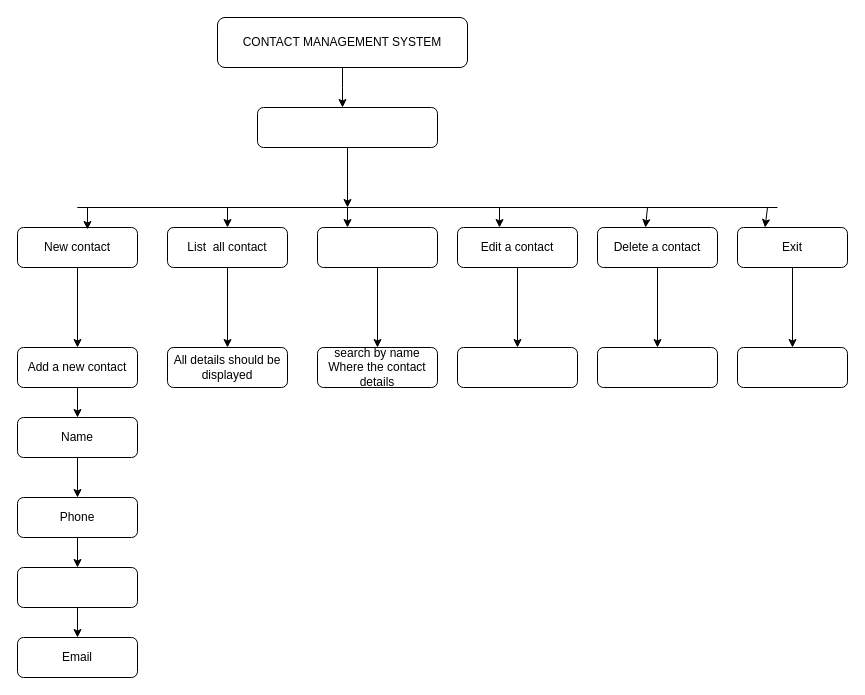
Image size: 865x695. Some labels were removed from this diagram. The shapes that lost their labels are listed below. From the top down, each one's centre as x and y in pixels, then its label:
At point 347,127: "MAIN MENU".
At point 377,247: "Search for contact".
At point 517,367: "old record to update new record".
At point 657,367: "Delete the record by name".
At point 792,367: "Exit go to planel".
At point 77,587: "Address".
